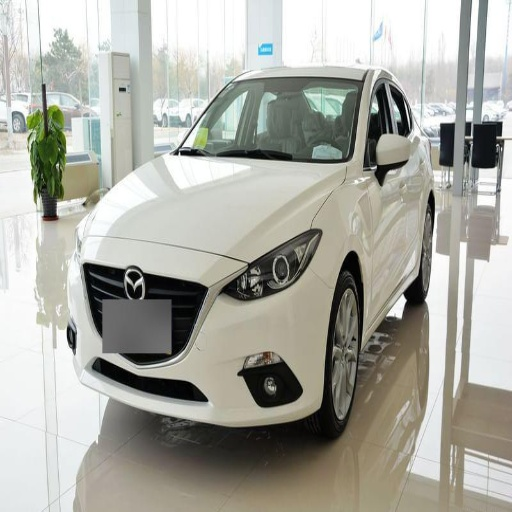back_glass: (389, 78, 426, 270)
back_right_light: (68, 236, 332, 427)
front_bumper: (174, 80, 360, 162)
front_glass: (364, 75, 405, 311)
front_left_door: (222, 230, 321, 300)
front_right_light: (87, 156, 343, 262)
trunk: (308, 270, 360, 438), (414, 211, 431, 298), (444, 431, 462, 491)
